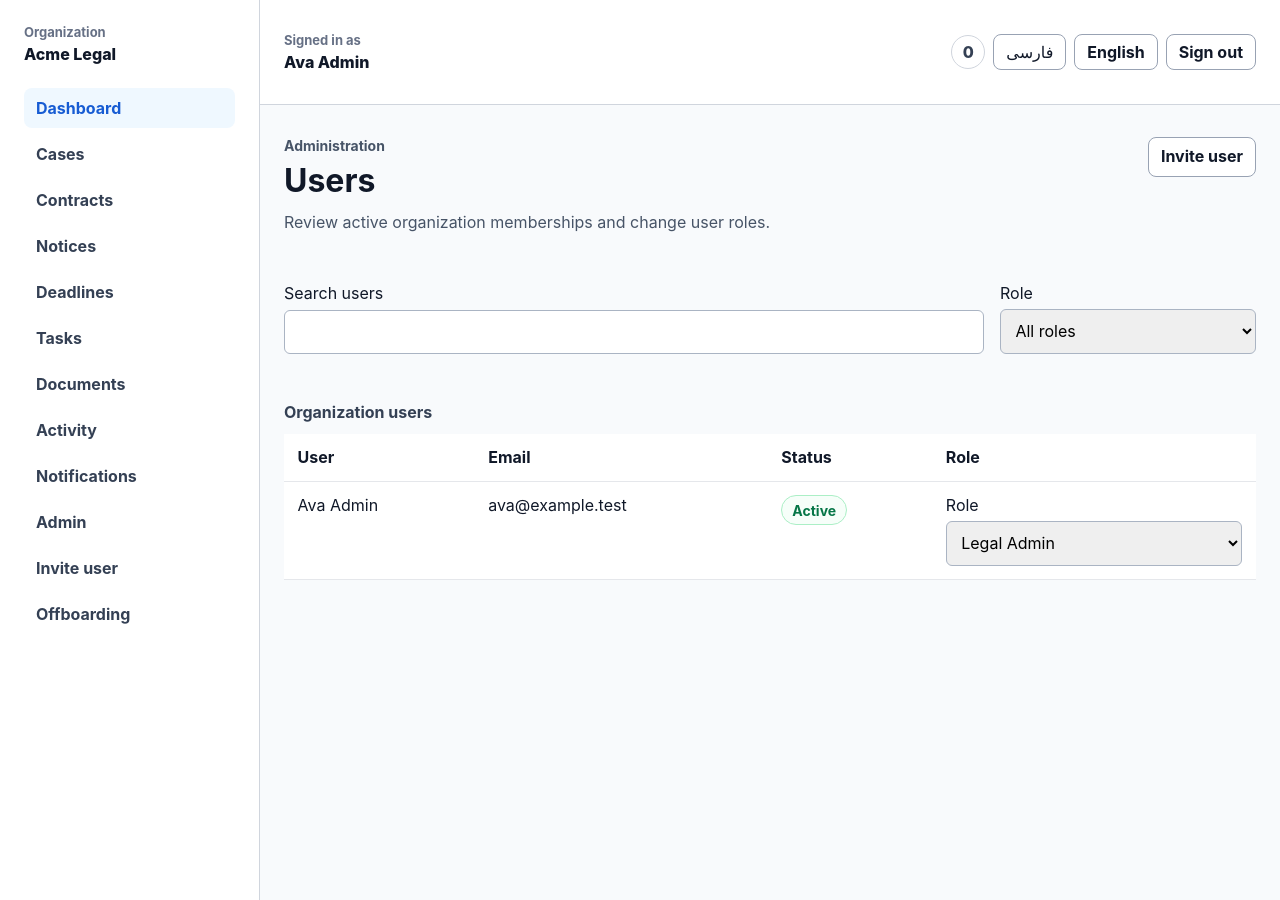
Test case: last-admin, stale, rate-limit, permission, and network errors are clear
The image size is (1280, 900).
Select "Viewer" in the dropdown named "Ava Admin Role" at (1094, 543), box [946,521,1242,566]
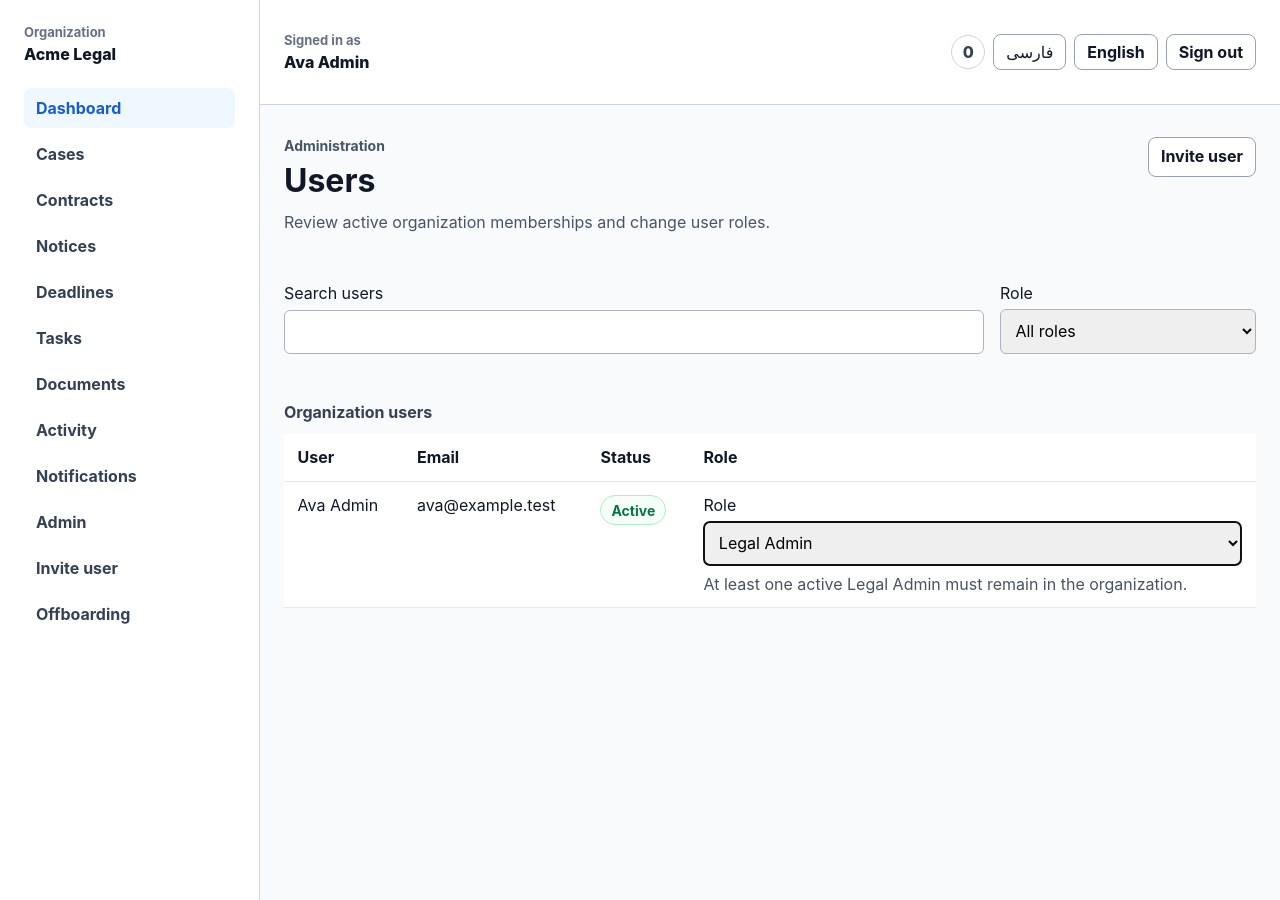
expect the message shows "At least one active Legal Admin": met, box [704,574,1187,594]
Select "Legal Manager" in the dropdown named "Ava Admin Role" at (973, 543), box [704,521,1242,566]
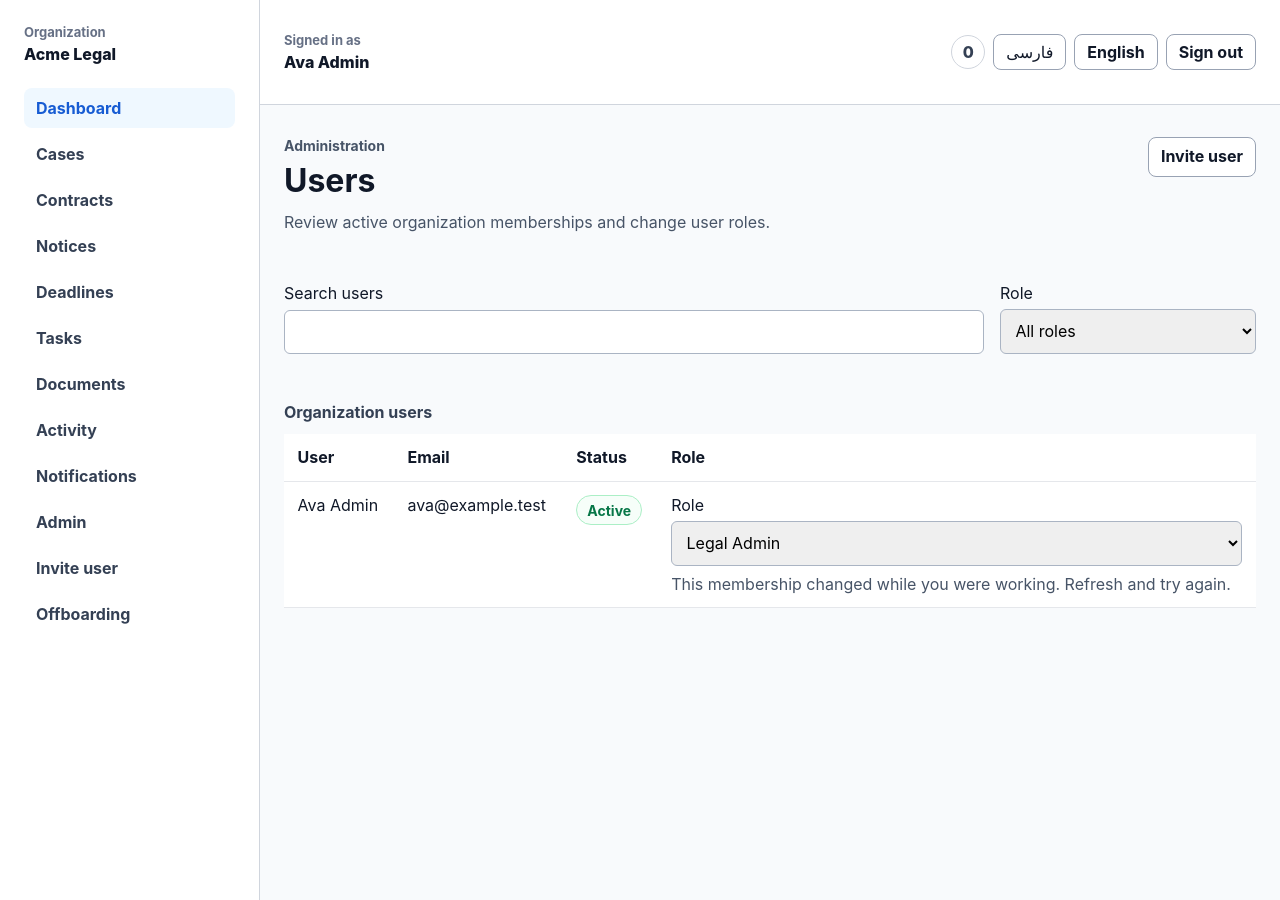
expect the message shows "Refresh": met, box [671,574,1231,594]
Select "Legal Counsel" in the dropdown named "Ava Admin Role" at (957, 543), box [671,521,1242,566]
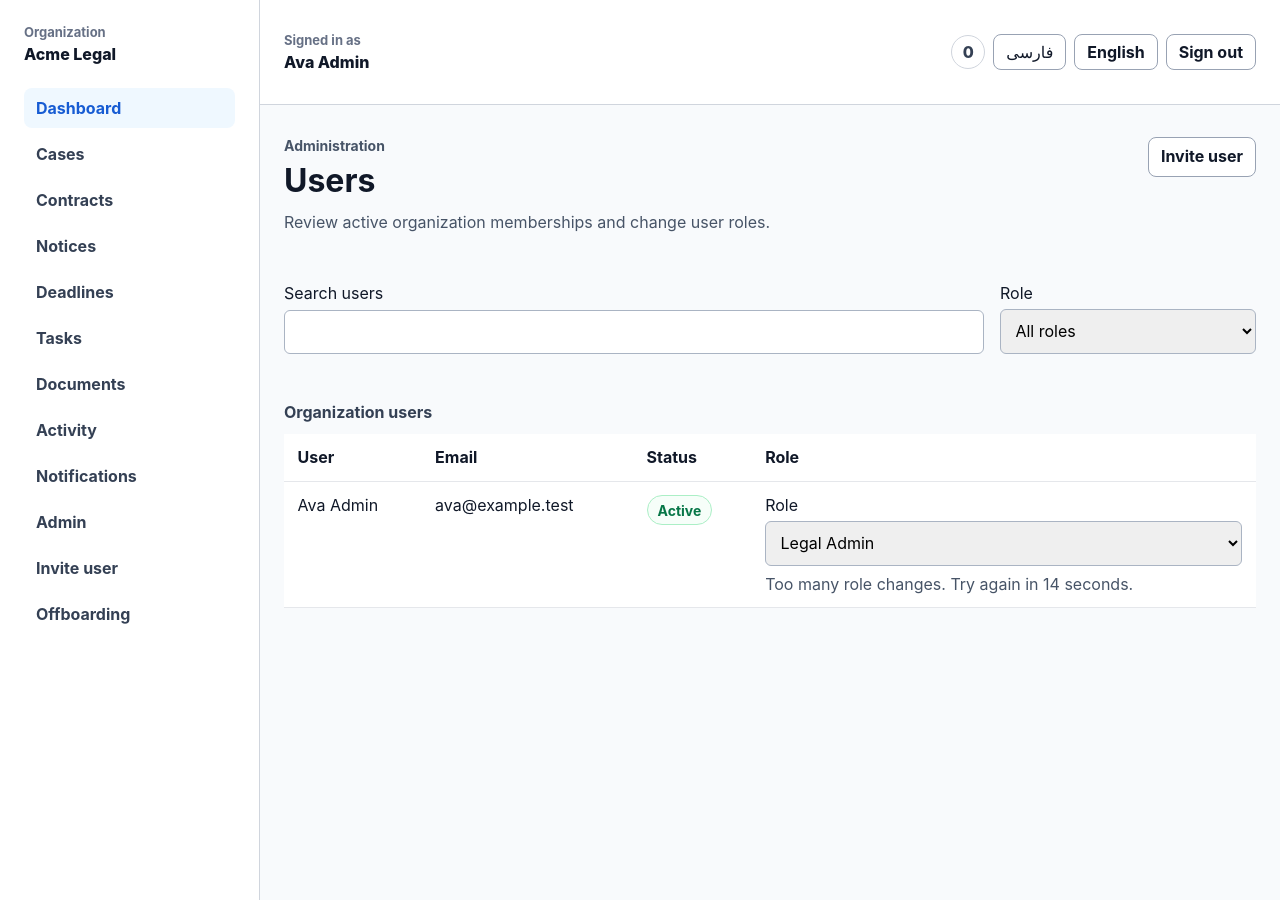
expect the message shows "14 seconds": met, box [765,574,1133,594]
Select "Viewer" in the dropdown named "Ava Admin Role" at (1004, 543), box [765,521,1242,566]
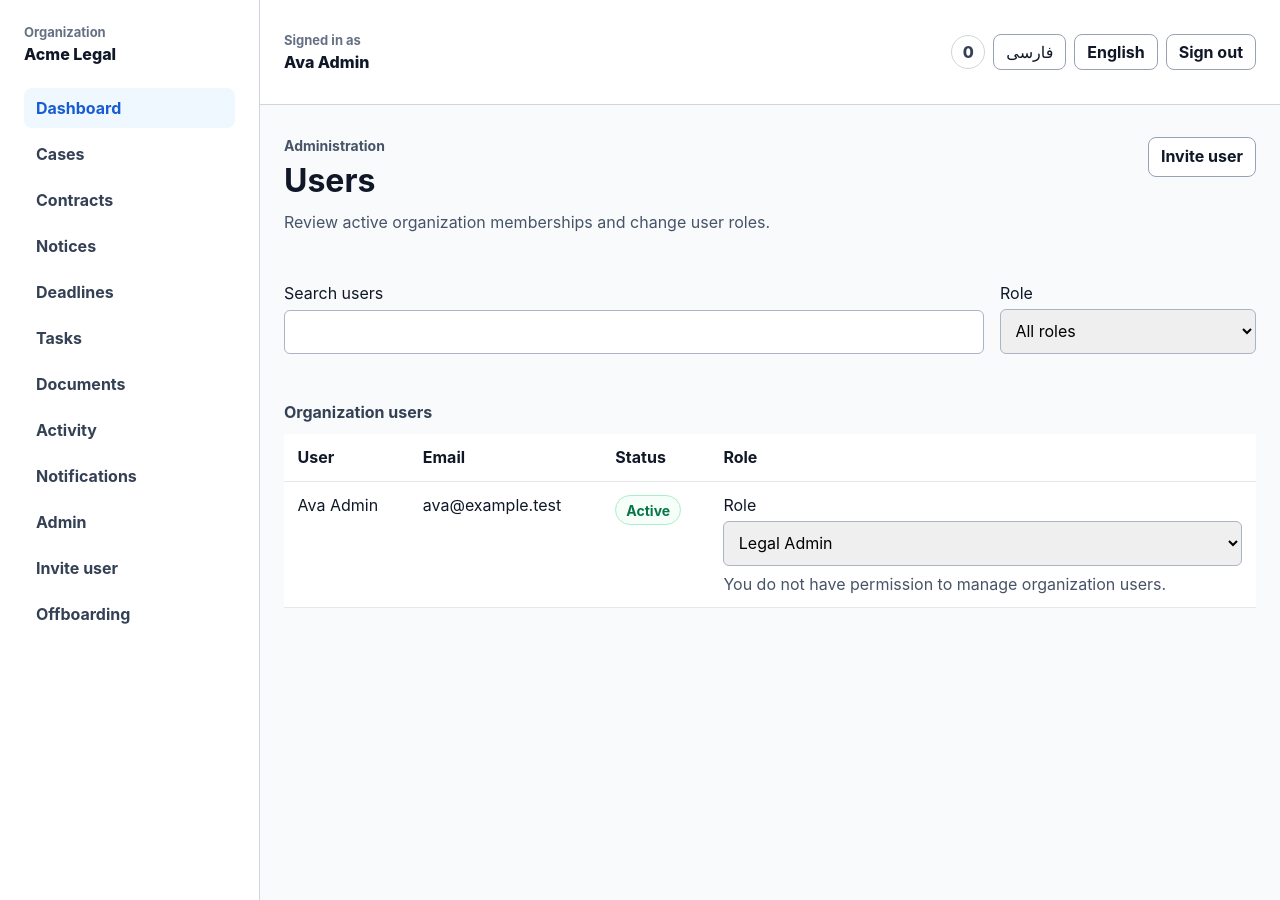
expect the message shows "permission": met, box [723,574,1166,594]
Select "Legal Manager" in the dropdown named "Ava Admin Role" at (983, 543), box [723,521,1242,566]
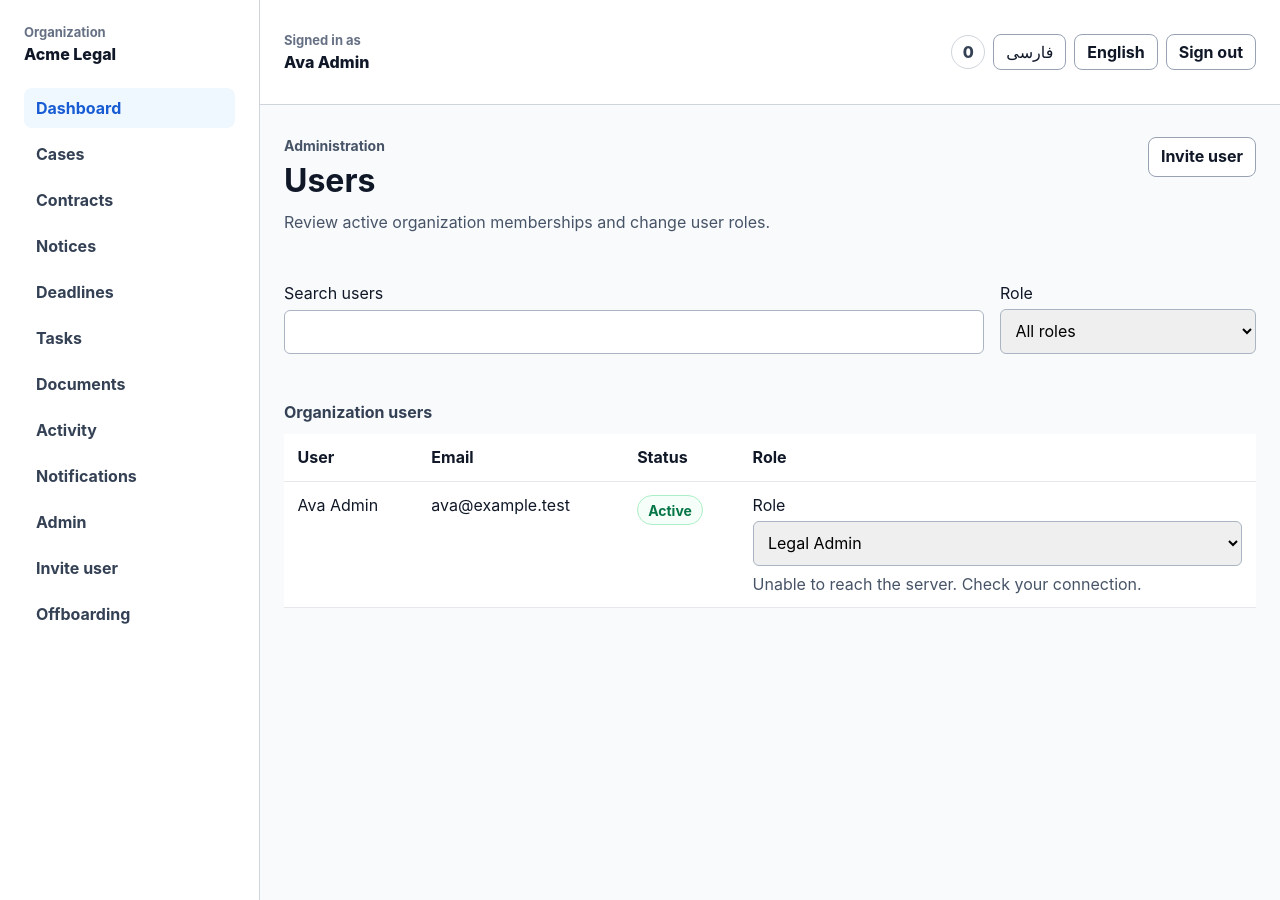
expect the message shows "connection": met, box [753,574,1142,594]
